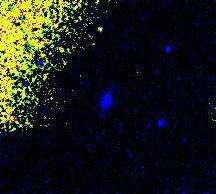star: (87, 14, 117, 44)
